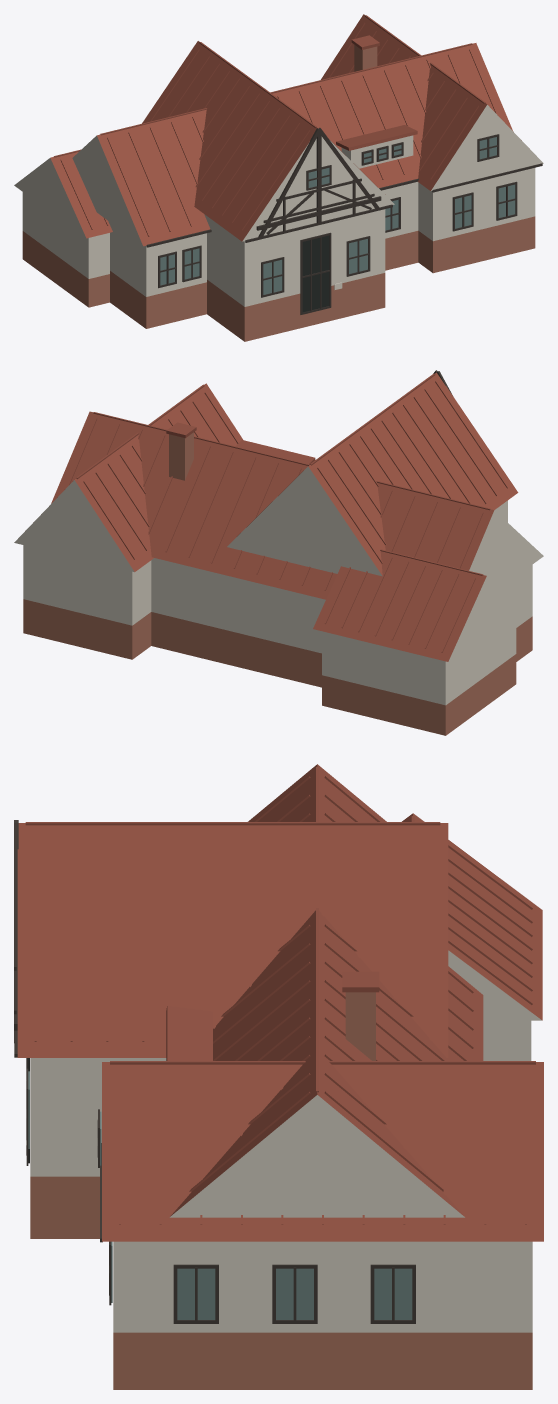
Rendered from house-315-hero.glb.
3 views of the same model, one above another, from view 1: azimuth 30°, elevation 25°; view 2: azimuth 150°, elevation 25°; view 3: azimuth 270°, elevation 25° (orthographic). The views are drawn at different scales.
Parts seen in each view (by area): view 1: house-315-hero; view 2: house-315-hero; view 3: house-315-hero.
Boxes of the visible parts, left/top/right/bottom form: house-315-hero: left=14, top=14, right=543, bottom=341; house-315-hero: left=14, top=370, right=543, bottom=735; house-315-hero: left=14, top=764, right=543, bottom=1389.
Bounding box in the file's own units: 14.9 × 6.98 × 9.41.
